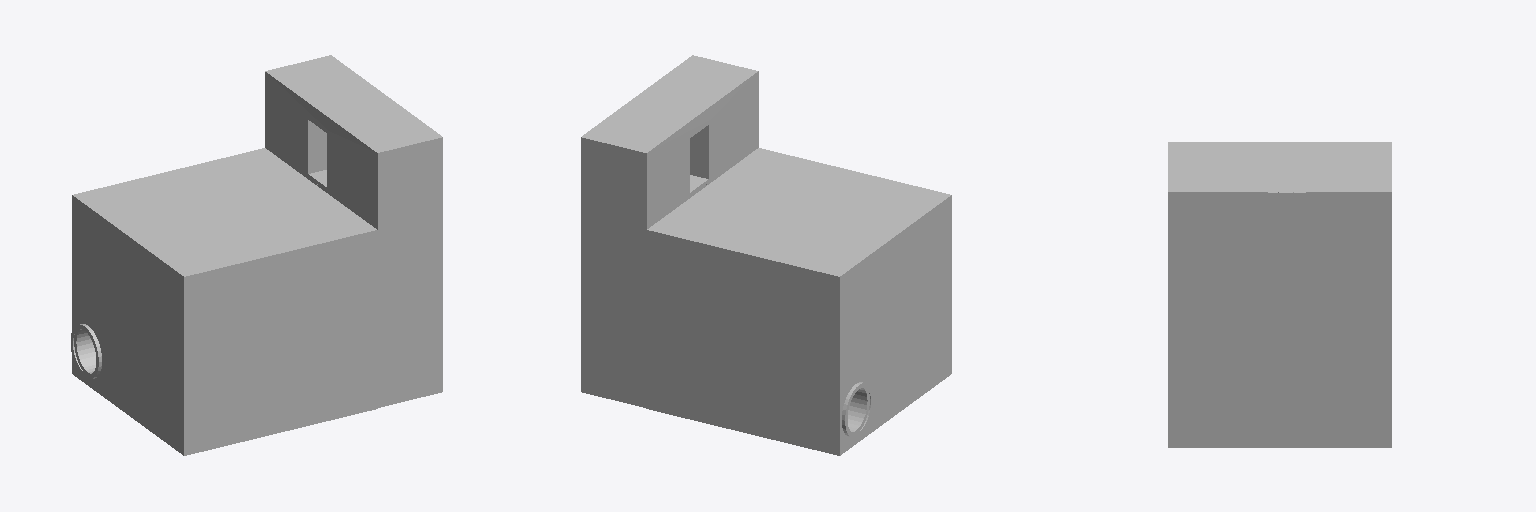
The model's file is Exit.obj.
3 renders of one model, left to right at view 1: azimuth 30°, elevation 25°; view 2: azimuth 150°, elevation 25°; view 3: azimuth 270°, elevation 25°, orthographic.
Visible parts, largest first — view 1: Cube.002_Cube.003, Cube.005_Cube.004, Cube.001_Cube.007, Cylinder.001; view 2: Cube.002_Cube.003, Cube.005_Cube.004, Cube.001_Cube.007, Cylinder.001; view 3: Plane, Cube.005_Cube.004, Cube.002_Cube.003.
Boxes of the visible parts, <box> form: Cube.002_Cube.003: <box>72,148,377,455</box>; Cube.005_Cube.004: <box>265,55,442,407</box>; Cube.001_Cube.007: <box>307,115,328,192</box>; Cylinder.001: <box>71,324,101,378</box>; Cube.002_Cube.003: <box>646,148,951,455</box>; Cube.005_Cube.004: <box>581,55,758,407</box>; Cube.001_Cube.007: <box>689,121,709,196</box>; Cylinder.001: <box>842,382,872,437</box>; Plane: <box>1168,193,1391,447</box>; Cube.005_Cube.004: <box>1168,160,1391,192</box>; Cube.002_Cube.003: <box>1168,142,1391,192</box>.
Size of the model in its own units: 10.82 by 10.08 by 8.